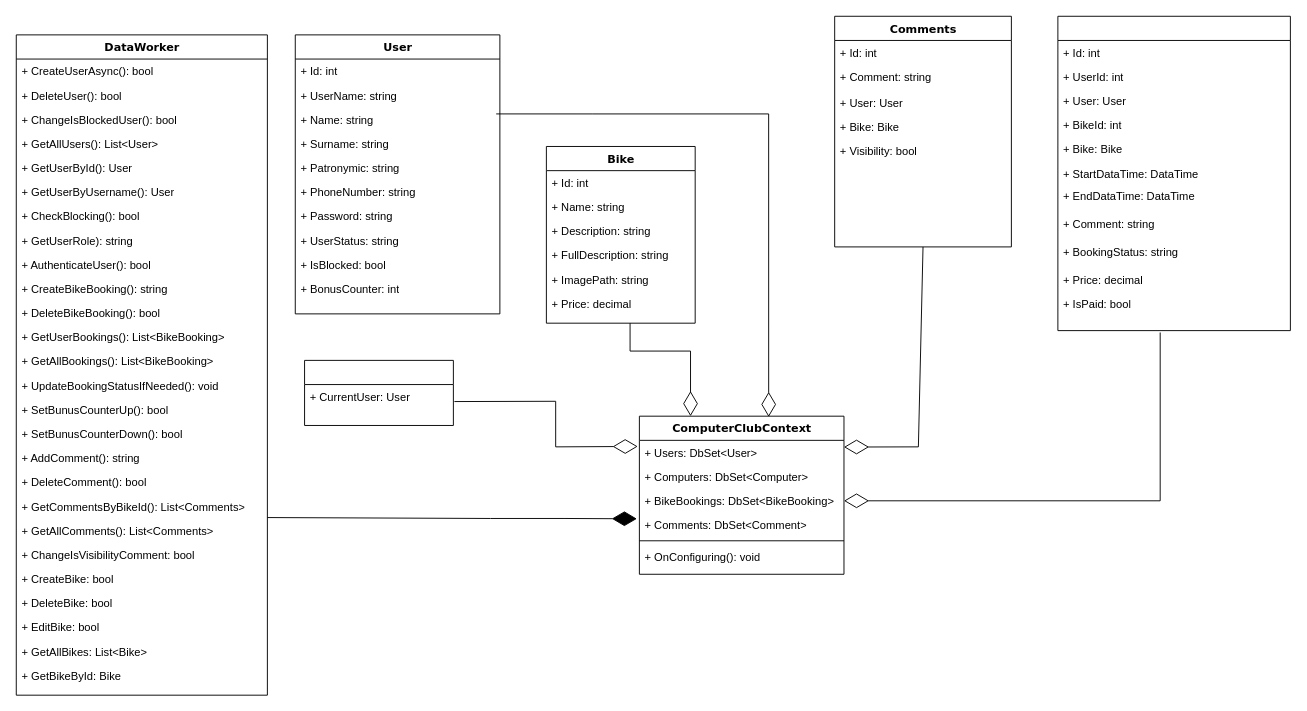
Image size: 1307x711. Some labels were removed from this diagram. The box of each missing label's shape, as (x1, y1, x2, y2) in pixels:
BikeBooking: (1057, 15, 1290, 331)
SessionManager: (304, 359, 453, 425)
